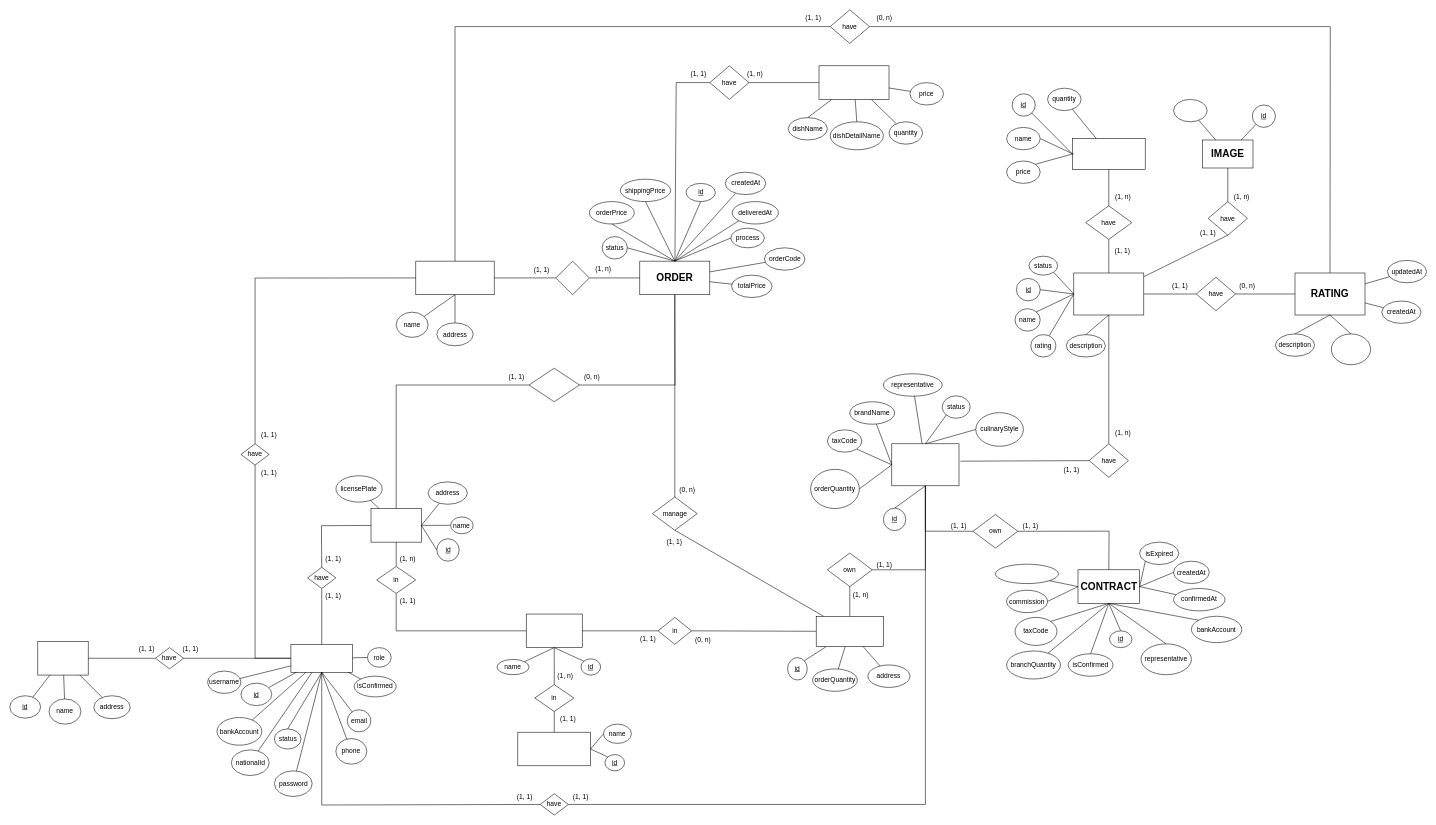
This 1436x825 diagram has some shape labels left out. The shapes that lost their labels are listed below. From the top down, each one's centre as x and y in pixels, then its label:
At point 853,82: "ORDER DETAIL".
At point 1190,110: "filename".
At point 1108,153: "DISH DETAIL".
At point 454,278: "CUSTOMER".
At point 572,278: "create".
At point 1108,293: "DISH".
At point 1351,349: "isLike".
At point 553,385: "take".
At point 925,464: "PARTNER".
At point 395,525: "SHIPPER".
At point 1026,574: "effectTimeInYear".
At point 554,630: "DISTRICT".
At point 849,631: "BRANCH".
At point 62,658: "STAFF".
At point 321,658: "ACCOUNT".
At point 554,749: "CITY".
